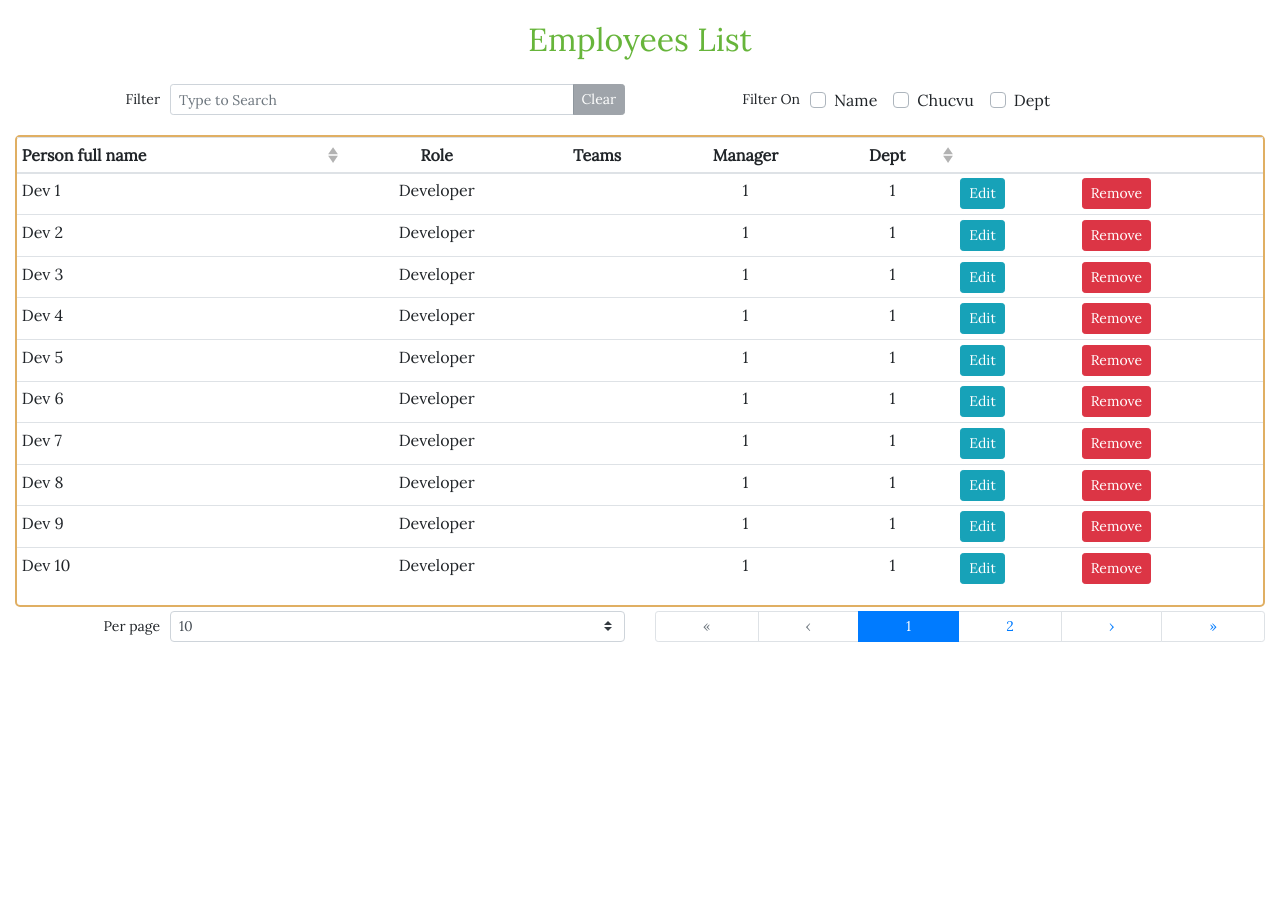
Employee unit tests: › Test paging › Per page is 15
The width and height of the screenshot is (1280, 900).
Select "15" in the dropdown labelled "Per page" at (398, 626), box [170,610,625,642]
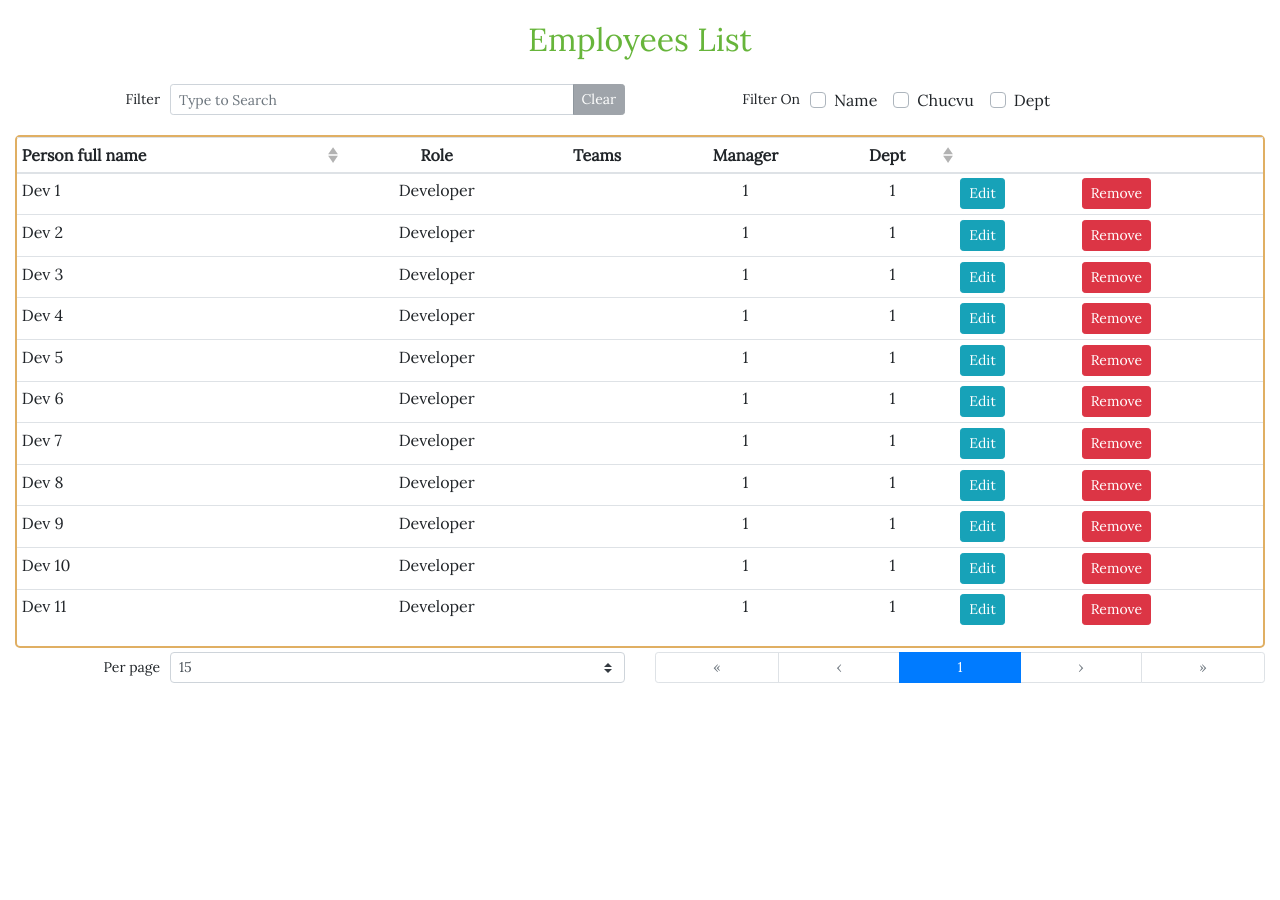
Expected: the table shows "Dev 1", [22,180,60,200]
Now the table shows "Dev 11", box [22,596,66,616]
